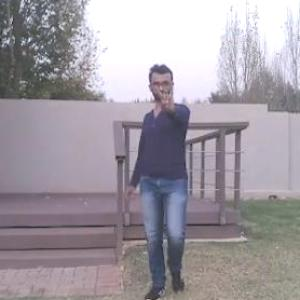takeoff-hand: (149, 76, 184, 120)
